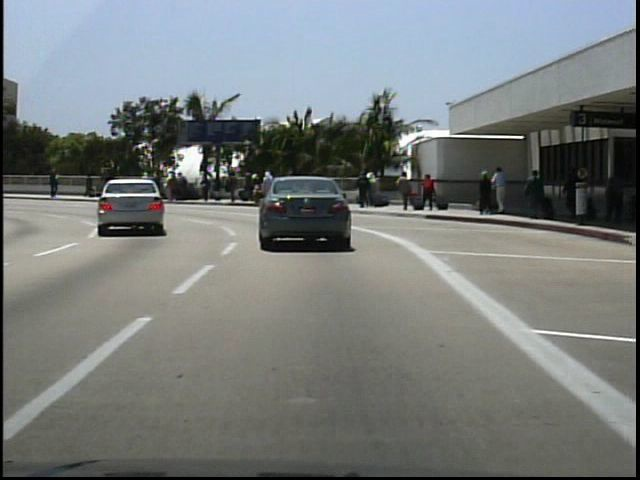person: (601, 165, 628, 227), (522, 166, 548, 223), (561, 162, 585, 222), (476, 168, 497, 220), (493, 164, 513, 216), (396, 170, 416, 213), (421, 170, 440, 212), (356, 170, 373, 209), (101, 168, 121, 198), (48, 166, 64, 200), (84, 170, 102, 198)
